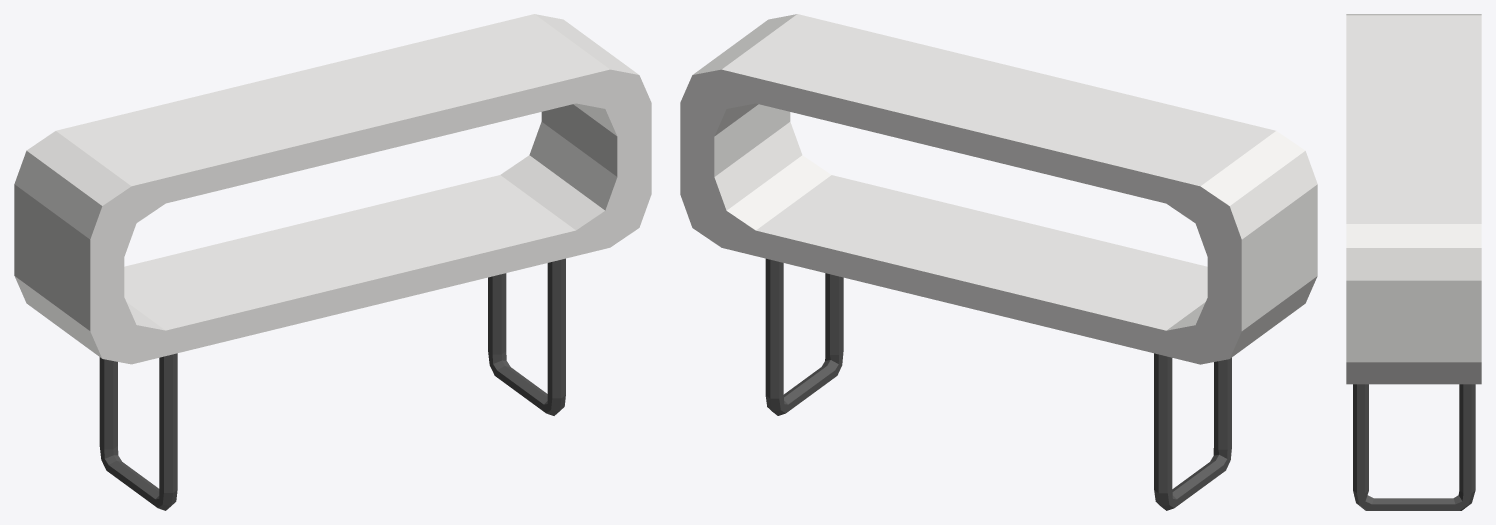
Rendered from Stand_1.fbx.
3 renders of one model, left to right at view 1: azimuth 30°, elevation 25°; view 2: azimuth 150°, elevation 25°; view 3: azimuth 270°, elevation 25°, orthographic. The views are drawn at different scales.
Parts seen in each view (by area): view 1: Stand_1; view 2: Stand_1; view 3: Stand_1.
Part boxes in pixels (bbox=[...]): Stand_1: bbox=[14, 14, 651, 510]; Stand_1: bbox=[680, 14, 1317, 510]; Stand_1: bbox=[1346, 14, 1481, 510].
Bounding box in the file's own units: 183 × 42.87 × 107.
